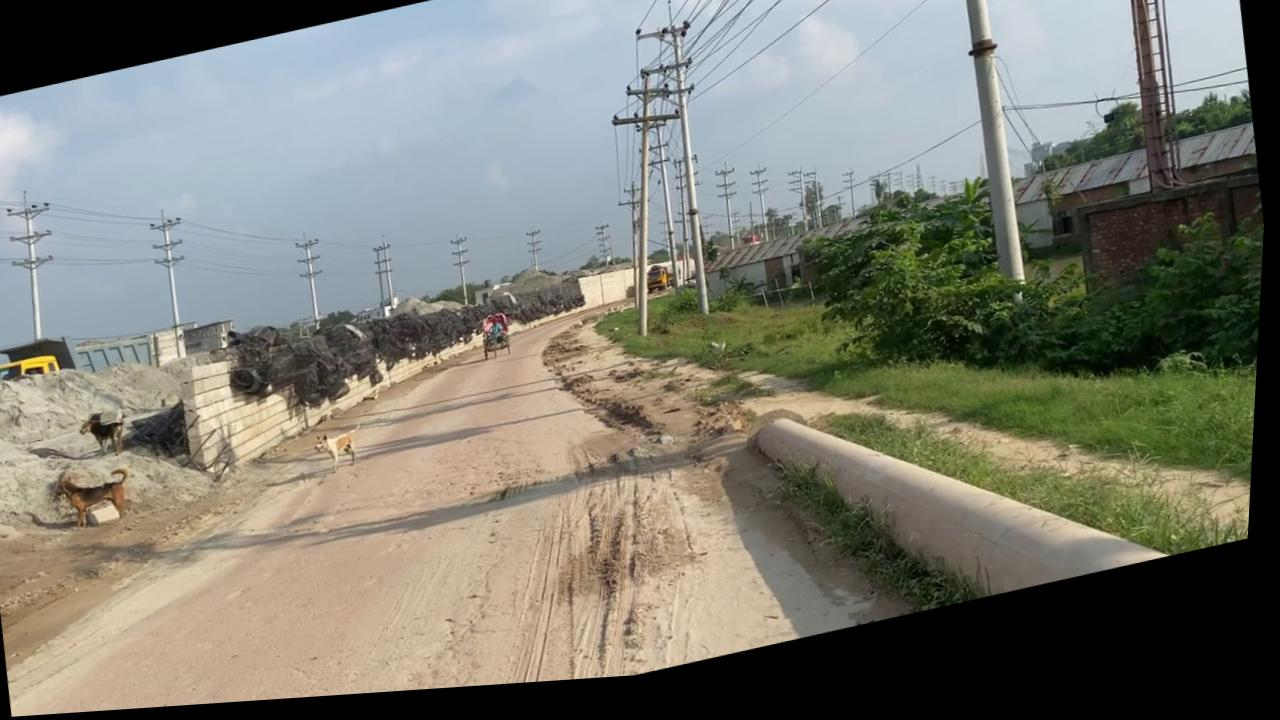Dog: (58, 464, 145, 534), (79, 408, 136, 463), (315, 427, 372, 482)
Garbage: (221, 267, 552, 394)
Muddy road: (0, 323, 933, 719)
Obstacle: (87, 497, 128, 531)
Pole: (739, 340, 1186, 656), (931, 0, 1044, 313), (654, 25, 734, 328), (1094, 0, 1186, 211)
Railroad-crossing: (482, 326, 518, 367)
Tree: (0, 351, 65, 389), (647, 264, 702, 303), (626, 271, 676, 308)
